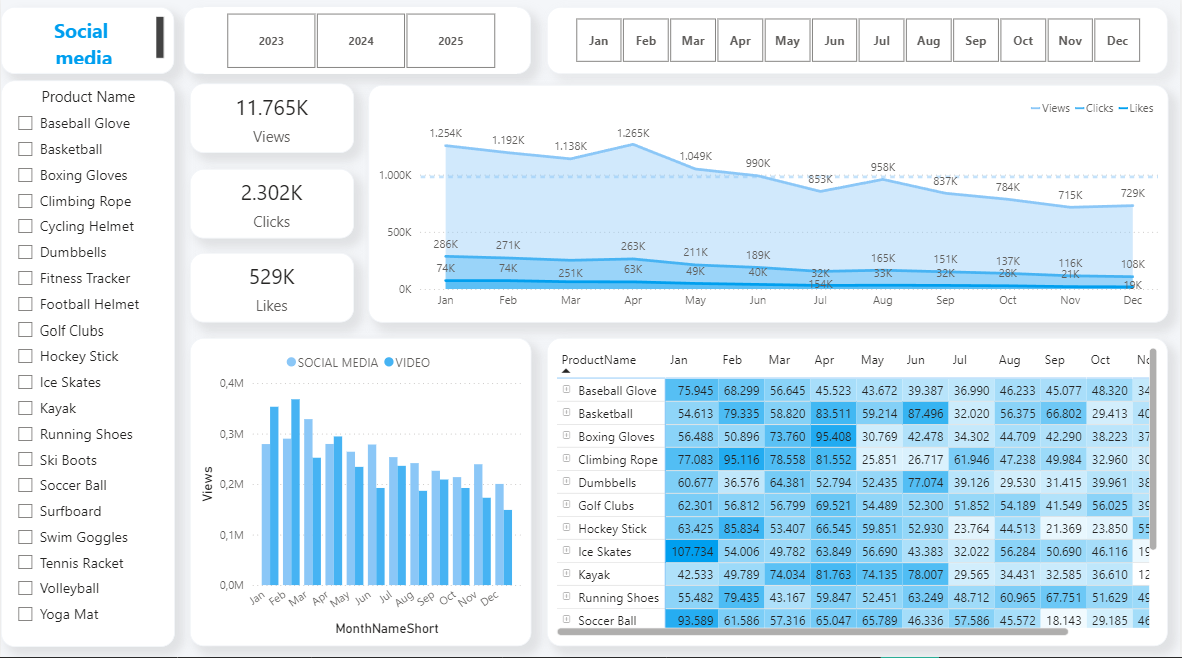

This screenshot's page, from the dashboard's own definition file:
{"tool":"powerbi","page":{"name":"Social Media","canvas":[1280,720],"ordinal":2},"visuals":[{"type":"textbox","box":[0,13.2,188.1,72.9],"z":0},{"type":"slicer","title":"Product Name","fields":{"Values":["DIM_Products.ProductName"]},"box":[0,92.8,188.4,614.1],"z":1000},{"type":"textbox","box":[199,13.3,376.7,73],"z":2000},{"type":"slicer","fields":{"Values":["Calendar.Date.Variation.Date Hierarchy.Year"]},"box":[219.9,13.2,340.4,72.9],"z":3000},{"type":"slicer","fields":{"Values":["Calendar.MonthNameShort"]},"box":[592.9,13.3,673.8,73],"z":4000},{"type":"card","fields":{"Values":["Measures (3).Views"]},"box":[205.7,96.3,178,75.1],"z":5000},{"type":"card","fields":{"Values":["Measures (3).Clicks"]},"box":[205.7,189.4,178,75.1],"z":6000},{"type":"card","fields":{"Values":["Measures (3).Likes"]},"box":[205.7,280.8,178,75.1],"z":7000},{"type":"lineChart","fields":{"Y":["Measures (3).Views","Measures (3).Clicks","Measures (3).Likes"],"Category":["Calendar.MonthNameShort"]},"box":[398.4,98,868.6,258],"z":8000},{"type":"clusteredColumnChart","fields":{"Category":["Calendar.MonthNameShort"],"Y":["Measures (3).Views"],"Series":["FACT_engagement.ContentType"]},"box":[205.7,372.2,370.6,334.7],"z":9000},{"type":"pivotTable","fields":{"Values":["Measures (3).Views"],"Columns":["Calendar.MonthNameShort"],"Rows":["DIM_Products.ProductName","FACT_engagement.ContentType"]},"box":[592.7,372.2,674.3,334.7],"z":10000}]}

Visuals, with their boxes in screenshot pixels (x1, y1, x2, y2), scaled from the page's 1280x720 canvas onto the 1182x658 screenshot:
textbox: 0/12/174/79
"Product Name" slicer: 0/85/174/646
textbox: 184/12/532/79
slicer - Calendar.Date.Variation.Date Hierarchy.Year: 203/12/517/79
slicer - Calendar.MonthNameShort: 548/12/1170/79
card - Measures (3).Views: 190/88/354/157
card - Measures (3).Clicks: 190/173/354/242
card - Measures (3).Likes: 190/257/354/325
lineChart - Measures (3).Views x Measures (3).Clicks: 368/90/1170/325
clusteredColumnChart - Calendar.MonthNameShort x Measures (3).Views: 190/340/532/646
pivotTable - Measures (3).Views x Calendar.MonthNameShort: 547/340/1170/646
